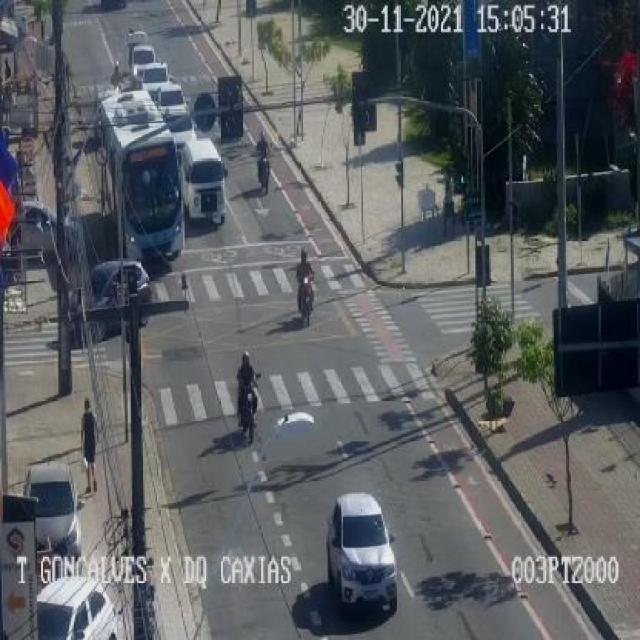Bus: (98, 92, 185, 272)
Car: (324, 492, 396, 616)
Cycle: (234, 348, 264, 444), (293, 245, 315, 328), (254, 129, 273, 198)
